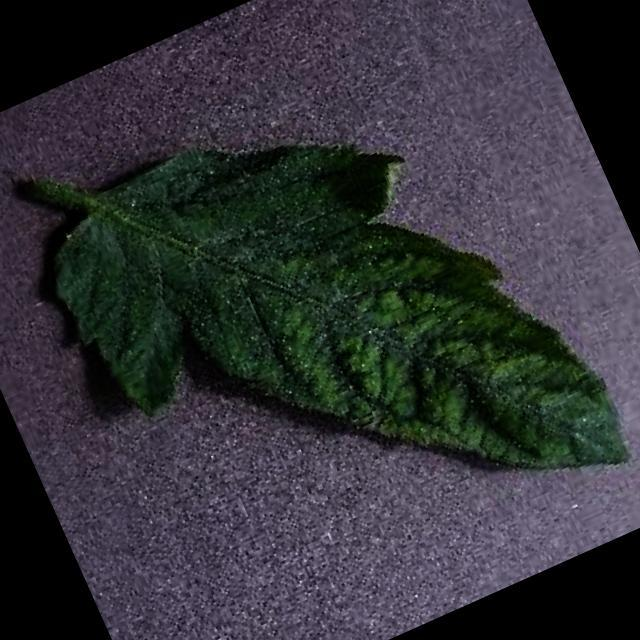Tomato mosaic virus leaf: (12, 29, 640, 640)
